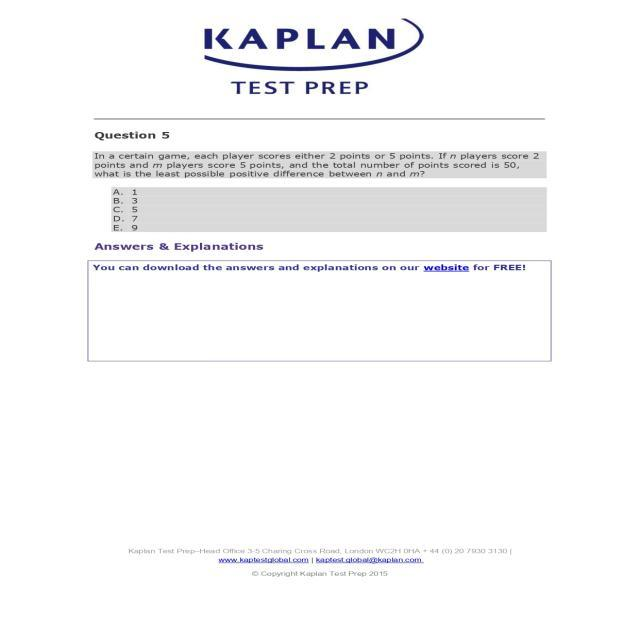Answer_Block: (109, 186, 555, 233)
Description: (85, 242, 556, 368)
Question_Answer_Block: (85, 125, 556, 241)
Question_Block: (85, 125, 556, 182)
Question_Paper_Area: (85, 125, 556, 369)
